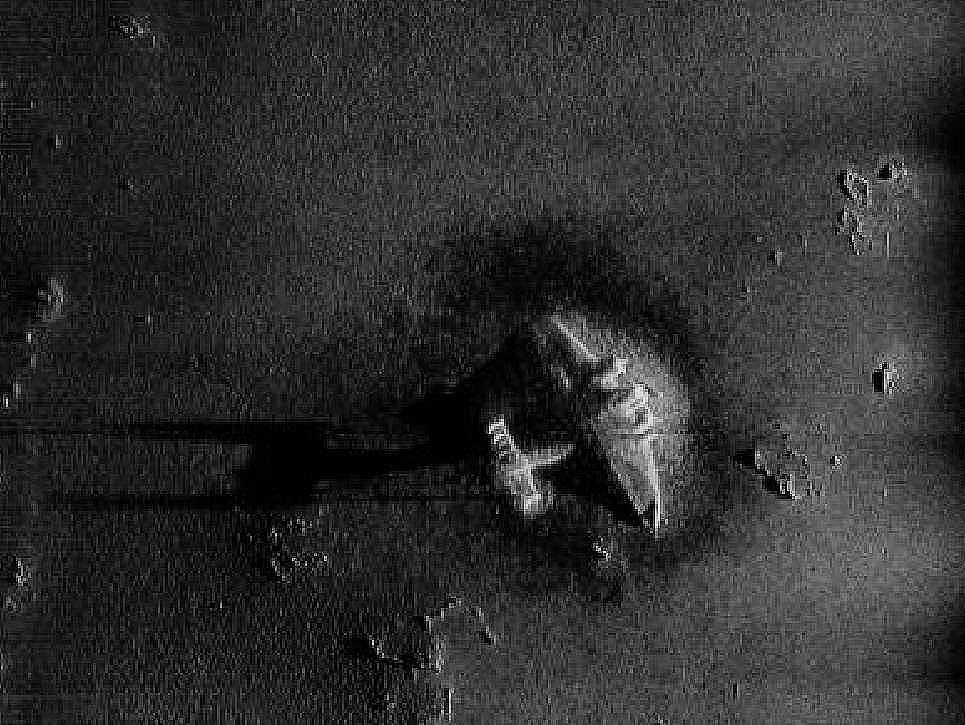plane: (492, 322, 667, 537)
